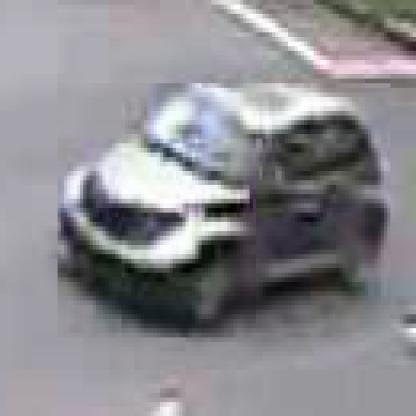car: (56, 84, 392, 343)
